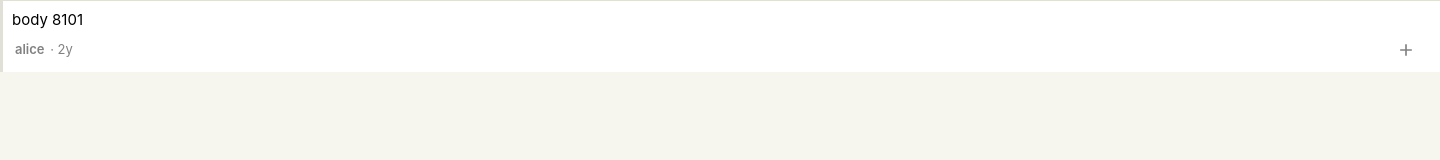
<Comment> footer row order › expanded: footer is [meta, toolbar, toggle] in that order
The width and height of the screenshot is (1440, 160).
Expected: the text "body 8101" is shown, [12,10,83,29]
Click the button named "expand comment" at (1406, 50), box [1384,32,1428,68]
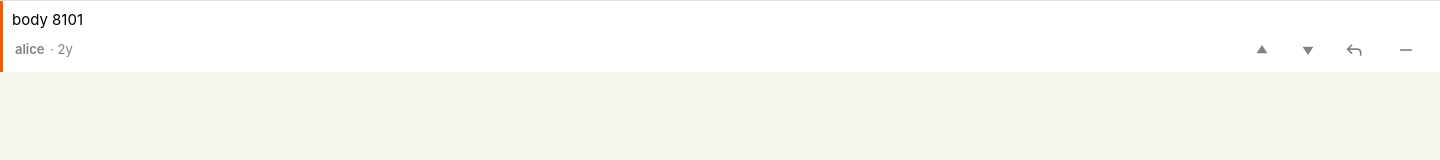
Expected: the element with class "comment__footer" is shown, [12,32,1428,68]
Now the button with test id "comment-upvote" is shown, box [1240,32,1284,68]
